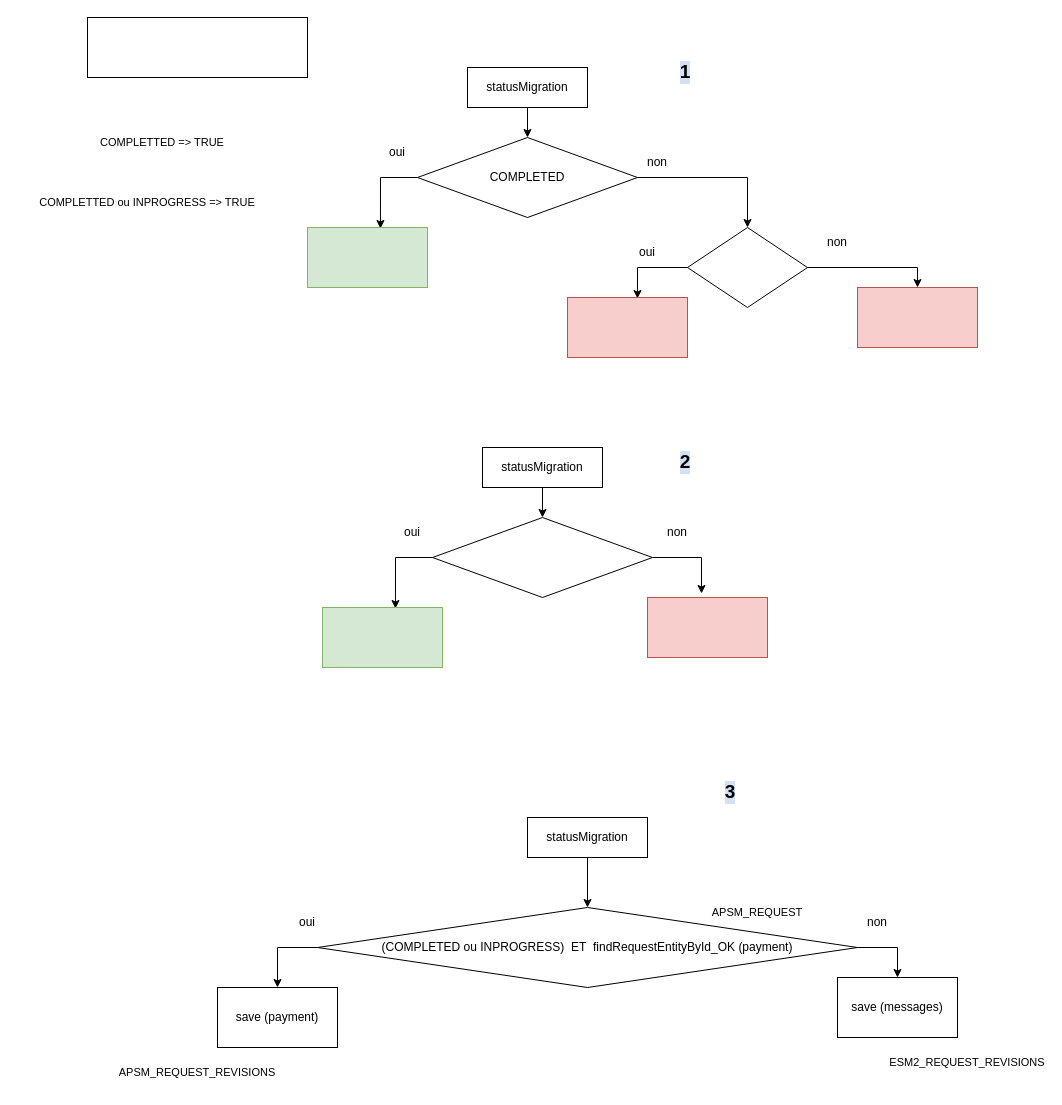
Image size: 1062x1105. Some labels were removed from this diagram. Each missing label, with the centre of its shape:
"COMPLETED ou INPROGRESS" belongs at (x=542, y=557).
"INPROGRESS" belongs at (x=747, y=267).
"statusMigration = COMPLETED" belongs at (x=197, y=47).
